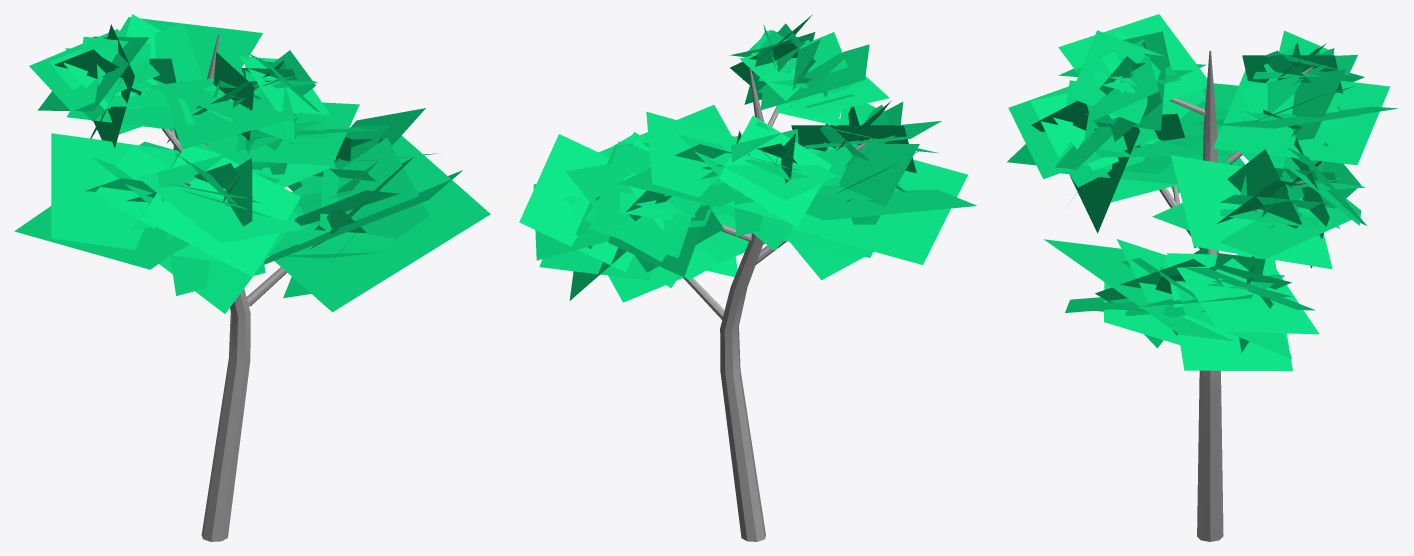
The picture shows the model from 3 angles, left to right: view 1: azimuth 30°, elevation 25°; view 2: azimuth 150°, elevation 25°; view 3: azimuth 270°, elevation 25°; orthographic projection. The views are drawn at different scales.
Parts seen in each view (by area): view 1: pasted__pasted__pasted__pPlane62; view 2: pasted__pasted__pasted__pPlane62; view 3: pasted__pasted__pasted__pPlane62.
Boxes of the visible parts, bbox=[...] form: pasted__pasted__pasted__pPlane62: bbox=[14, 14, 490, 541]; pasted__pasted__pasted__pPlane62: bbox=[519, 15, 976, 541]; pasted__pasted__pasted__pPlane62: bbox=[1007, 14, 1398, 541].
Bounding box in the file's own units: 349 × 397 × 281.
